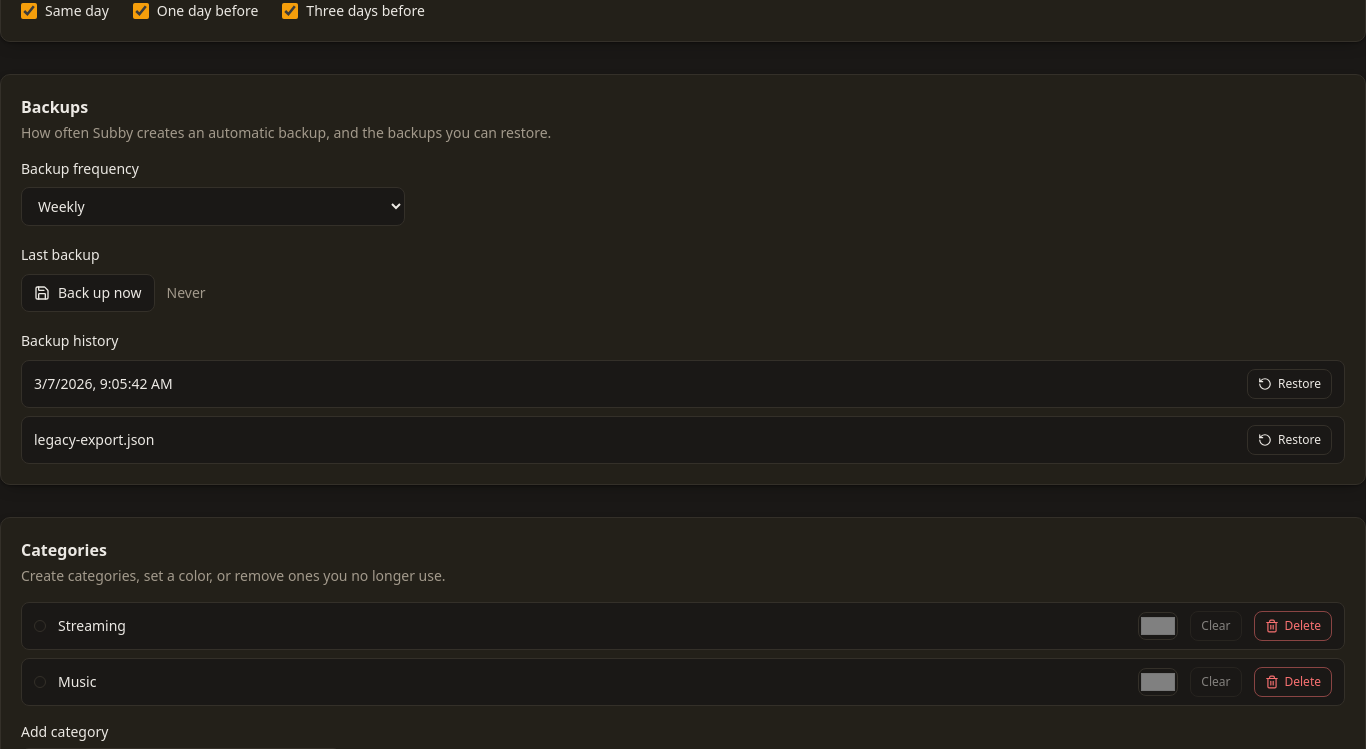
Accessibility: automated axe scans (Req 22.1, 22.3) › the Backups history + open restore dialog is axe-clean (Story 7.4)
(page scrolled)
// Open the branded restore confirm dialog and scan with it mounted.
Step 1. Click the button with aria-label "restore backup from" → (1289, 384), box [1247,369,1332,399]
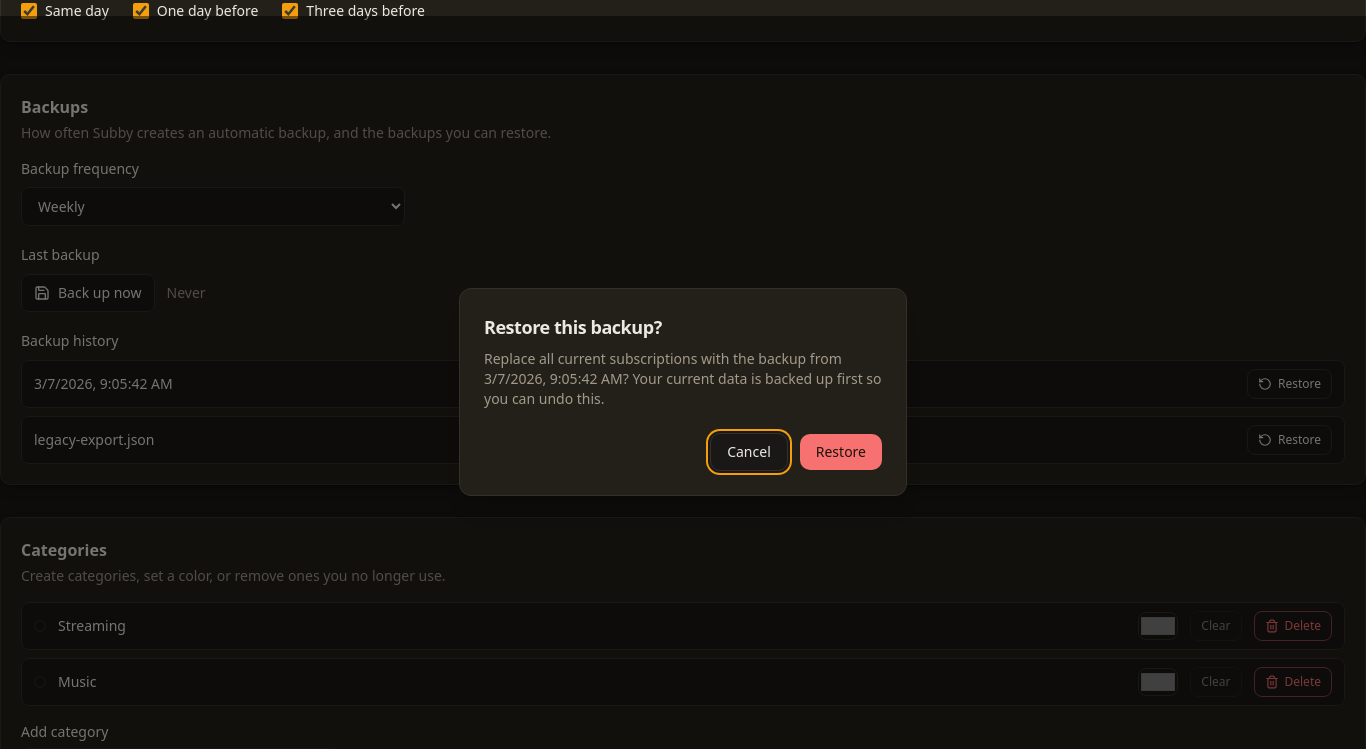
Now the dialog is shown, box [459,288,907,496]
